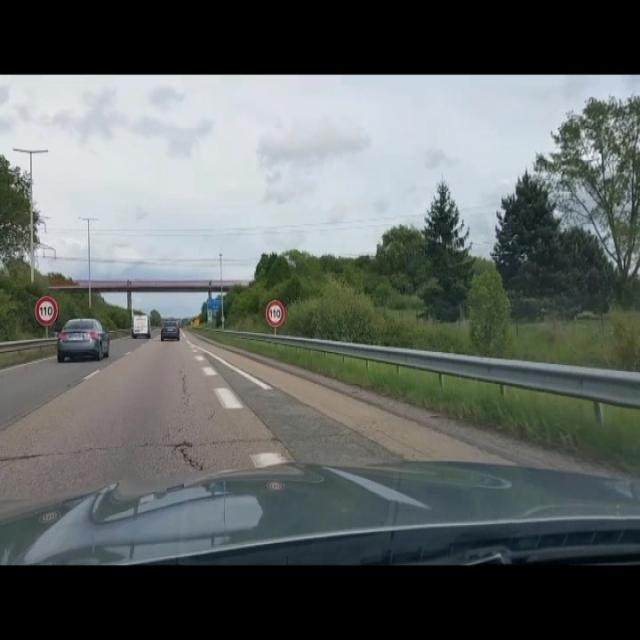speed_110: (34, 293, 59, 328), (265, 299, 285, 328)
